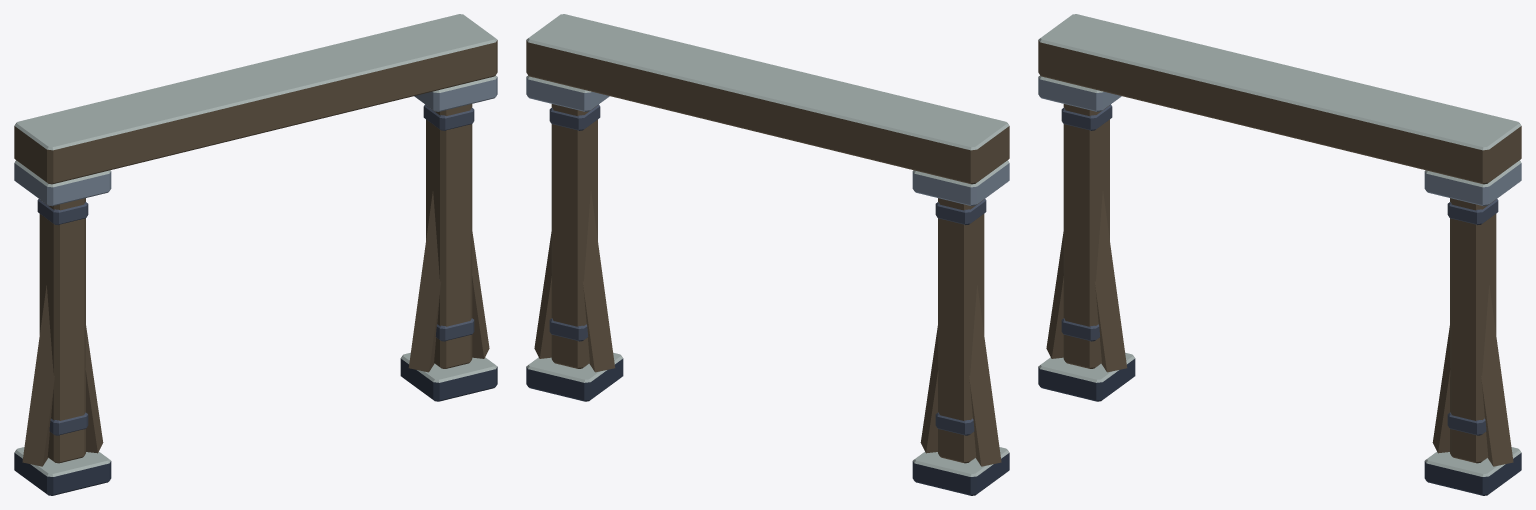
Rendered from arch-free.glb.
The picture shows the model from 3 angles, left to right: view 1: azimuth 30°, elevation 25°; view 2: azimuth 150°, elevation 25°; view 3: azimuth 330°, elevation 25°; orthographic projection.
Visible parts, largest first — view 1: arch-free__body; view 2: arch-free__body; view 3: arch-free__body.
Part boxes in pixels (x1,y1,x2,y2): arch-free__body: (14,14,497,495); arch-free__body: (526,14,1009,495); arch-free__body: (1038,14,1521,495).
Bounding box in the file's own units: 2.9 × 2.07 × 0.4.
